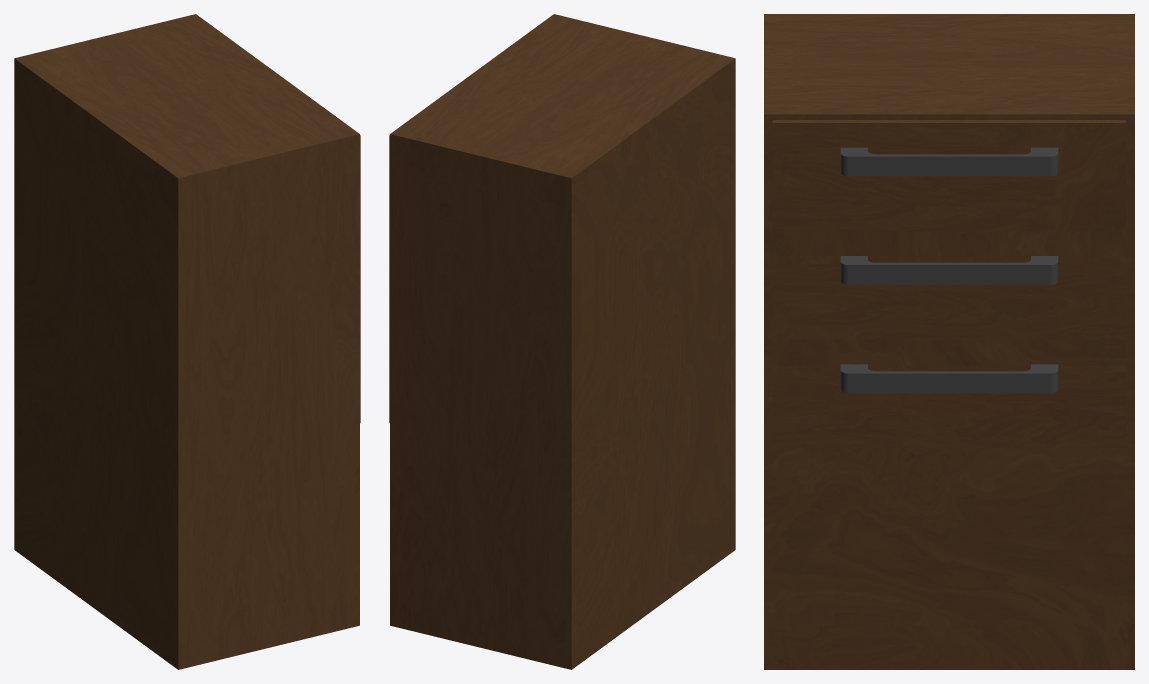
File: ModeloGabineteCadeirante.glb
3 views of the same model, side by side, from view 1: azimuth 30°, elevation 25°; view 2: azimuth 150°, elevation 25°; view 3: azimuth 270°, elevation 25° (orthographic). The views are drawn at different scales.
Parts seen in each view (by area): view 1: mesh52; view 2: mesh52; view 3: mesh52, mesh66.
Part boxes in pixels (<box>): mesh52: <box>14,14,360,669</box>; mesh52: <box>389,14,735,669</box>; mesh52: <box>764,14,1134,669</box>; mesh66: <box>840,147,1058,393</box>.
Bounding box in the file's own units: 0.487 × 1.13 × 0.682.
3 materials, 1 textured.
